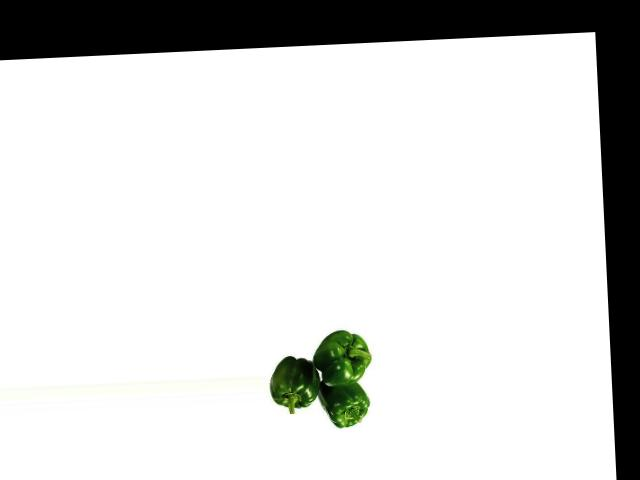bell_pepper: (311, 323, 377, 389)
